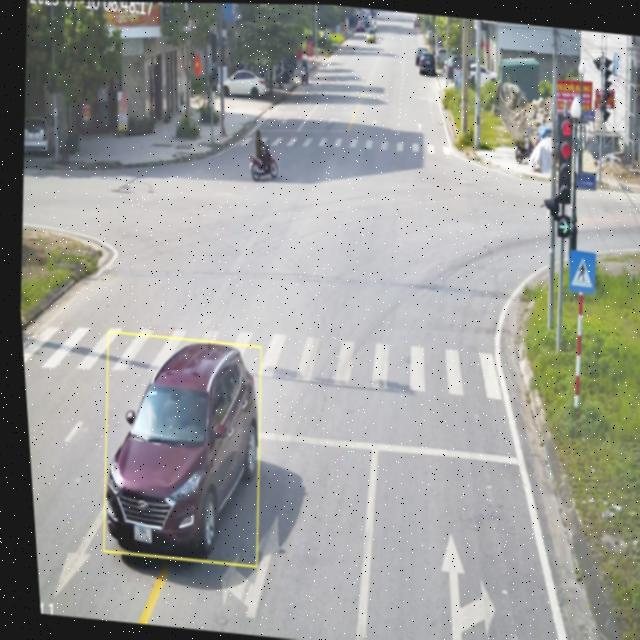Red: (550, 115, 576, 206)
